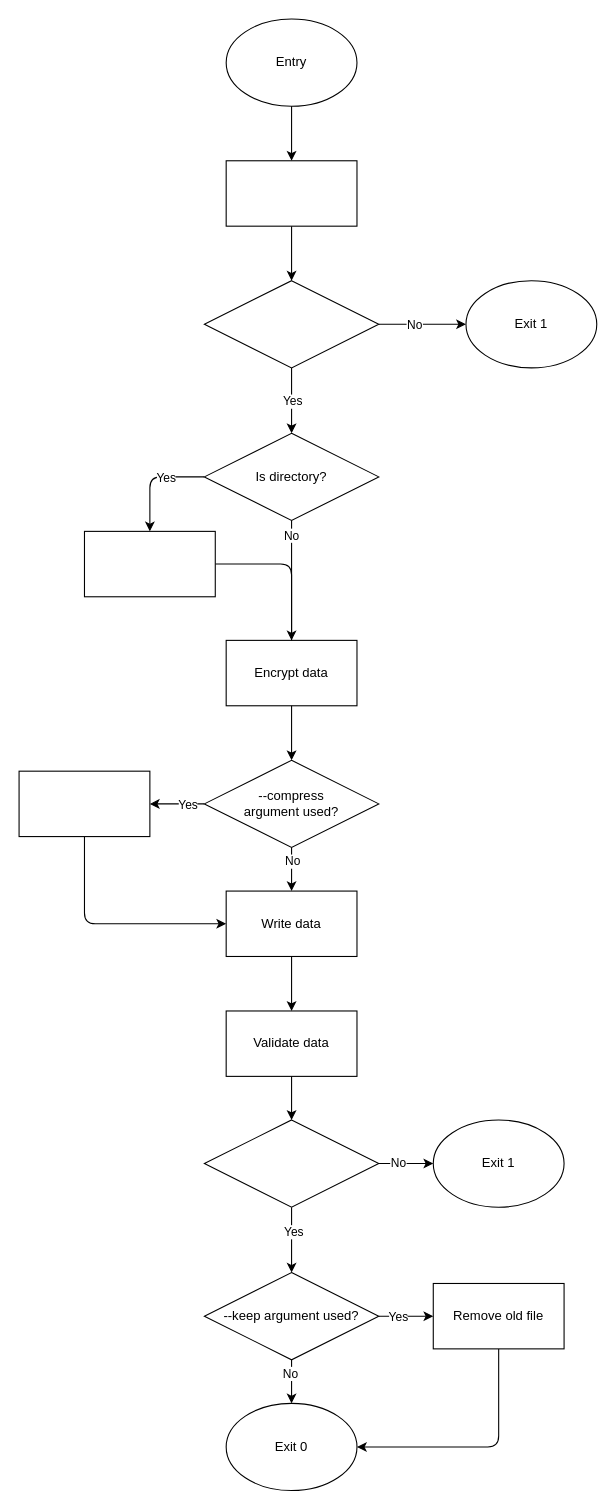
The diagram is 616 pixels wide and 1510 high, and some of its shapes have lost their labels. The box of each missing label's shape, as (x1, y1, x2, y2) in pixels:
Comptress data: (18, 770, 150, 837)
Create .tar file: (83, 530, 215, 597)
Has read & write permission?: (203, 280, 379, 368)
Is written data valid?: (203, 1119, 379, 1207)
Prase arguments: (225, 160, 357, 226)
